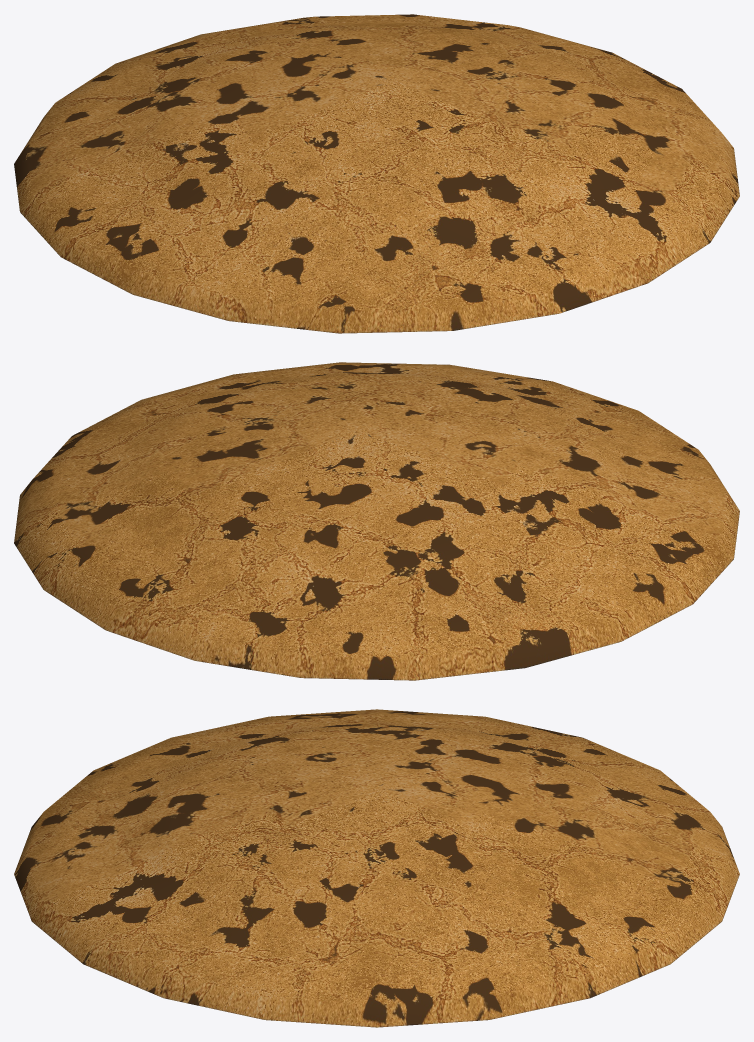
3 renders of one model, top to bottom at view 1: azimuth 30°, elevation 25°; view 2: azimuth 150°, elevation 25°; view 3: azimuth 270°, elevation 25°, orthographic.
Visible parts, largest first — view 1: Geode; view 2: Geode; view 3: Geode.
Boxes of the visible parts, bbox=[...] form: Geode: bbox=[14, 14, 739, 333]; Geode: bbox=[14, 362, 739, 680]; Geode: bbox=[14, 709, 739, 1027].
Size of the model in its own units: 2 by 0.2838 by 2.
Materials: 1 (1 with a texture image).
